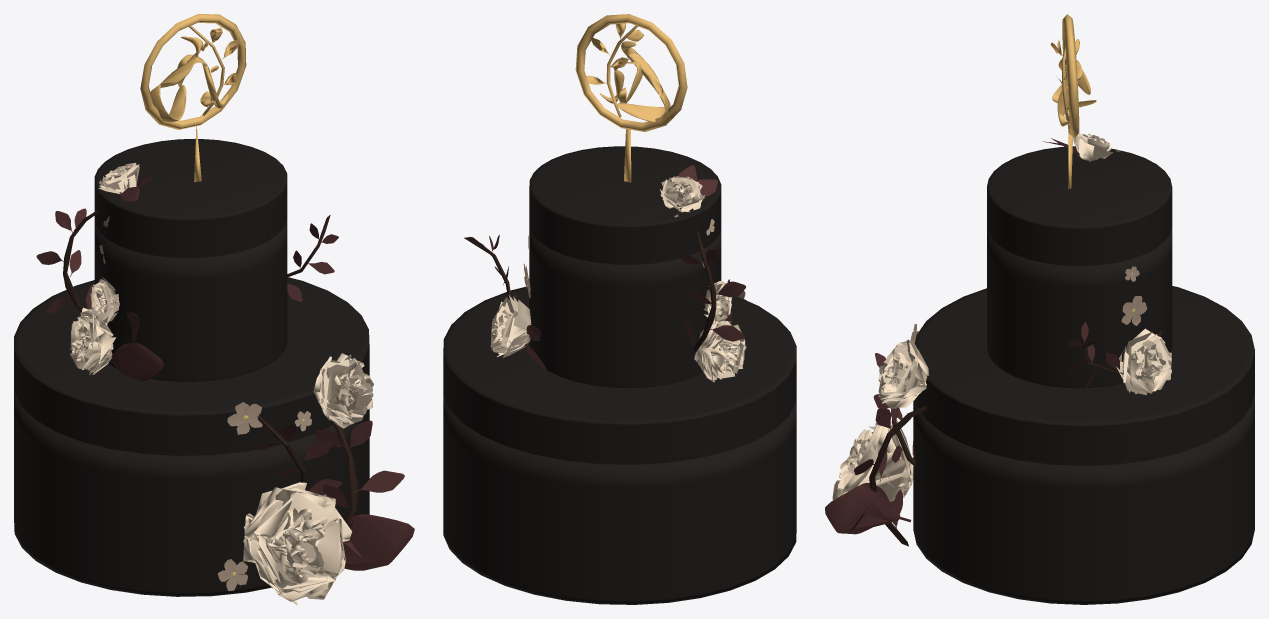
Rendered from 2-tier-black-roses-ring.glb.
3 views of the same model, side by side, from view 1: azimuth 30°, elevation 25°; view 2: azimuth 150°, elevation 25°; view 3: azimuth 270°, elevation 25° (orthographic).
Parts seen in each view (by area): view 1: Cylinder.023, Cylinder.013, grid.025, Cylinder.011, grid.024, Plane.049, Plane.059, grid.026, Plane.056, Plane.058, Plane.052, Plane.045 (+4 smaller); view 2: Cylinder.023, Cylinder.013, Cylinder.011, grid.026, Plane.056, grid.028, grid.014, grid.027, Plane.045; view 3: Cylinder.023, Cylinder.013, grid.025, Cylinder.011, grid.028, Plane.049, grid.024, Plane.059, Plane.045, grid.014, Plane.058.
Part boxes in pixels (x1,y1,x2,y2): Cylinder.023: [14, 277, 369, 596]; Cylinder.013: [94, 139, 287, 381]; grid.025: [243, 482, 352, 604]; Cylinder.011: [140, 14, 246, 181]; grid.024: [313, 353, 373, 428]; Plane.049: [343, 514, 414, 570]; Plane.059: [315, 420, 404, 556]; grid.026: [70, 307, 116, 374]; Plane.056: [36, 208, 98, 313]; Plane.058: [255, 415, 342, 494]; Plane.052: [110, 342, 164, 381]; Plane.045: [287, 215, 338, 301]; Cylinder.023: [443, 286, 796, 604]; Cylinder.013: [529, 146, 721, 387]; Cylinder.011: [575, 14, 687, 182]; grid.026: [694, 321, 746, 382]; Plane.056: [677, 231, 745, 351]; grid.028: [490, 295, 531, 357]; grid.014: [660, 176, 704, 212]; grid.027: [703, 281, 732, 326]; Plane.045: [464, 235, 516, 300]; Cylinder.023: [913, 286, 1254, 604]; Cylinder.013: [987, 146, 1172, 388]; grid.025: [832, 419, 913, 501]; Cylinder.011: [1050, 14, 1096, 188]; grid.028: [1116, 328, 1171, 395]; Plane.049: [825, 483, 910, 534]; grid.024: [878, 339, 929, 408]; Plane.059: [850, 406, 926, 546]; Plane.045: [1066, 322, 1123, 391]; grid.014: [1073, 133, 1113, 161]; Plane.058: [873, 353, 915, 467].
Size of the model in its own units: 3.4 by 5.49 by 4.11.
